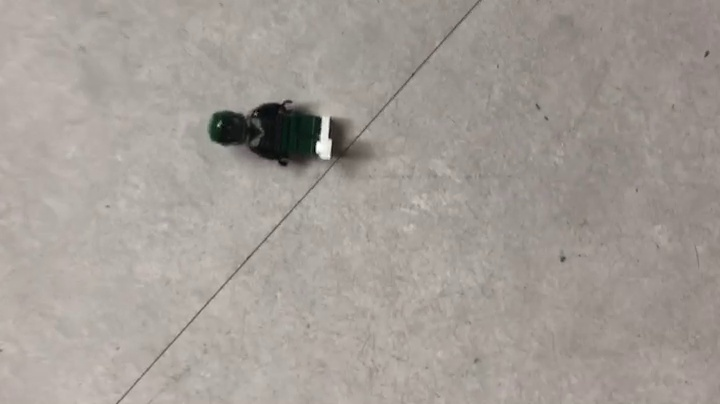people: (208, 100, 340, 166)
